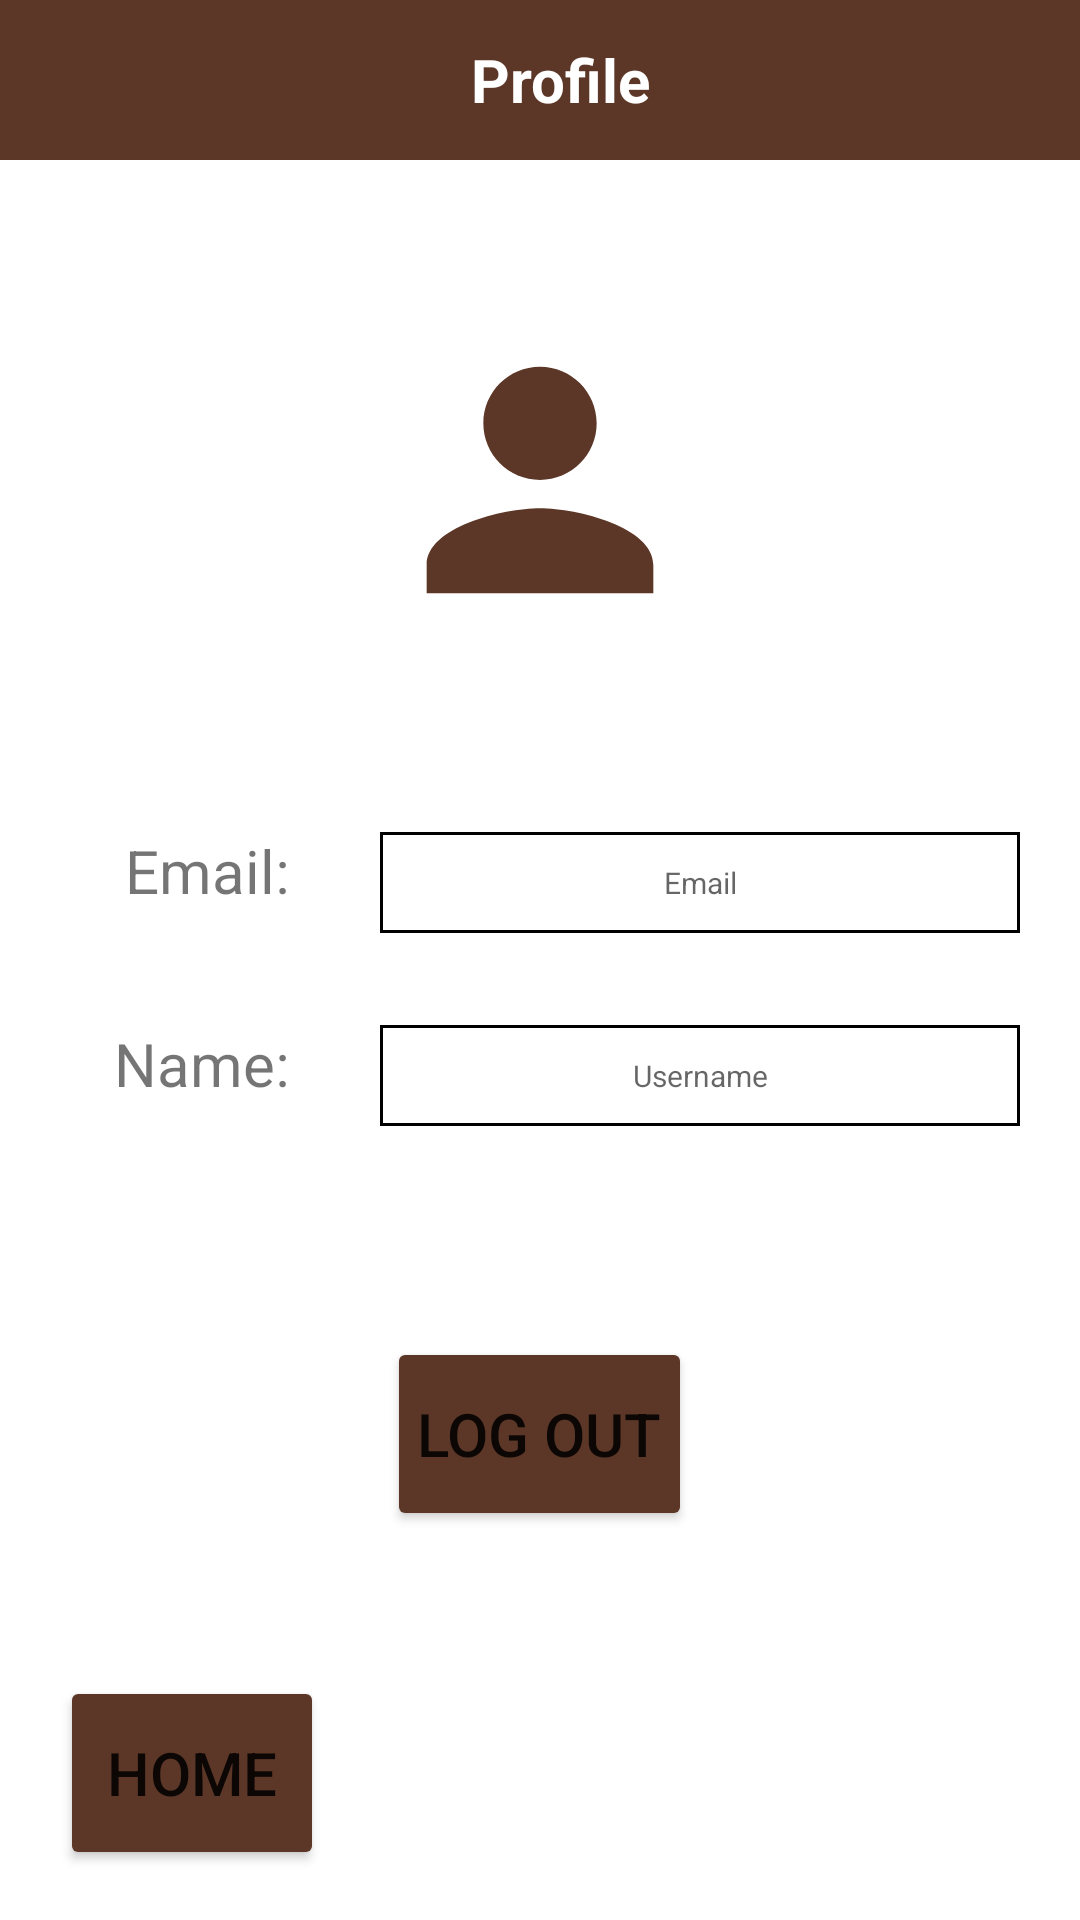

Named icons in this screenshot (1080px×1920px) and their centers, point (x, y):
person: point (540, 480)
